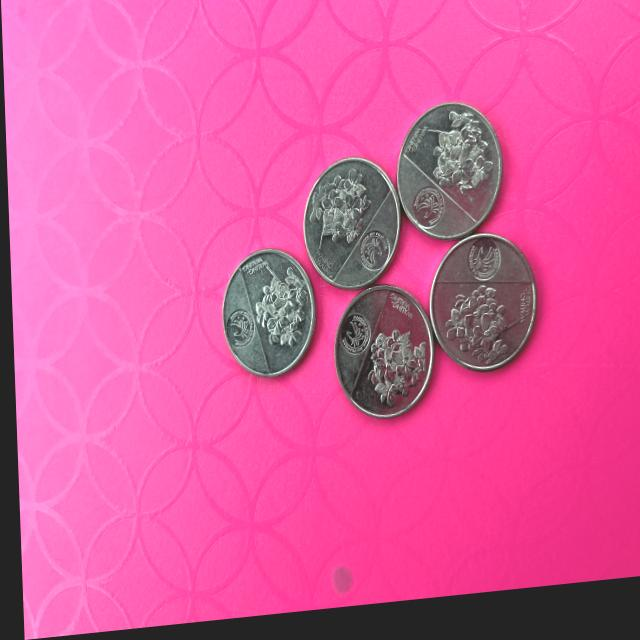1_New_Back: (422, 122, 490, 210), (362, 327, 427, 418), (307, 180, 371, 268), (440, 301, 509, 373), (255, 277, 306, 355)
